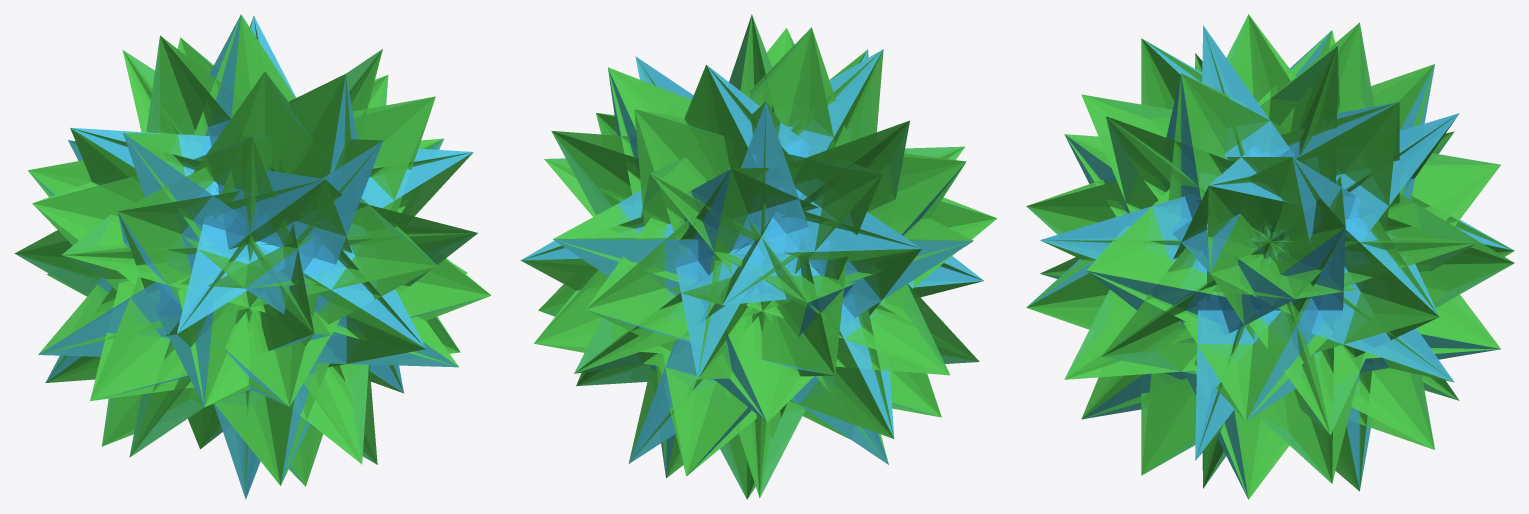
Rendered from GreatRetrosnubIcosidodecahedron.obj.
3 views of the same model, side by side, from view 1: azimuth 30°, elevation 25°; view 2: azimuth 150°, elevation 25°; view 3: azimuth 270°, elevation 25° (orthographic). The views are drawn at different scales.
Size of the model in its own units: 1.11 by 1.11 by 1.11.
